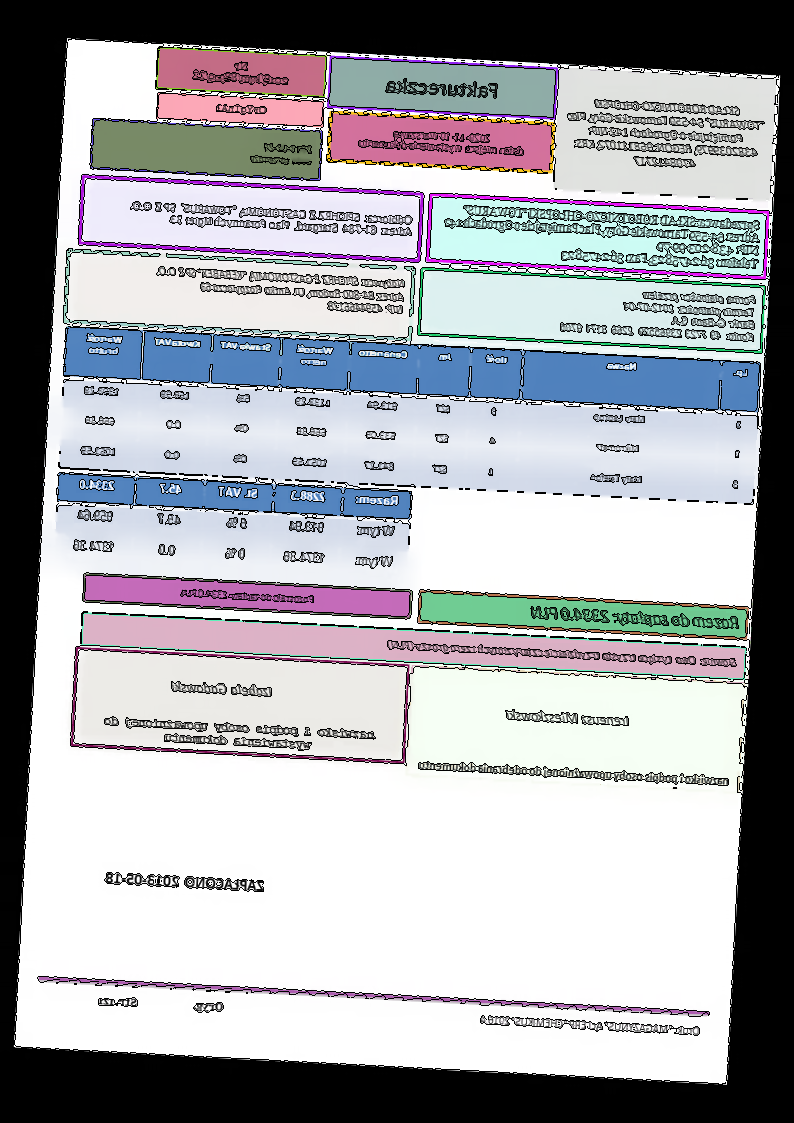Table: (57, 325, 763, 505), (52, 471, 414, 583)
TextBox: (439, 200, 763, 272), (560, 94, 768, 177), (151, 263, 407, 317), (126, 196, 417, 240), (557, 282, 759, 345), (386, 636, 738, 671), (100, 712, 378, 756), (417, 755, 732, 789), (528, 600, 742, 634), (479, 1011, 702, 1041), (355, 125, 528, 159), (101, 867, 270, 895), (190, 56, 293, 90), (504, 704, 633, 731), (176, 584, 318, 606), (384, 75, 501, 101), (94, 992, 226, 1015), (167, 675, 275, 702), (247, 140, 315, 171), (214, 100, 270, 119)
